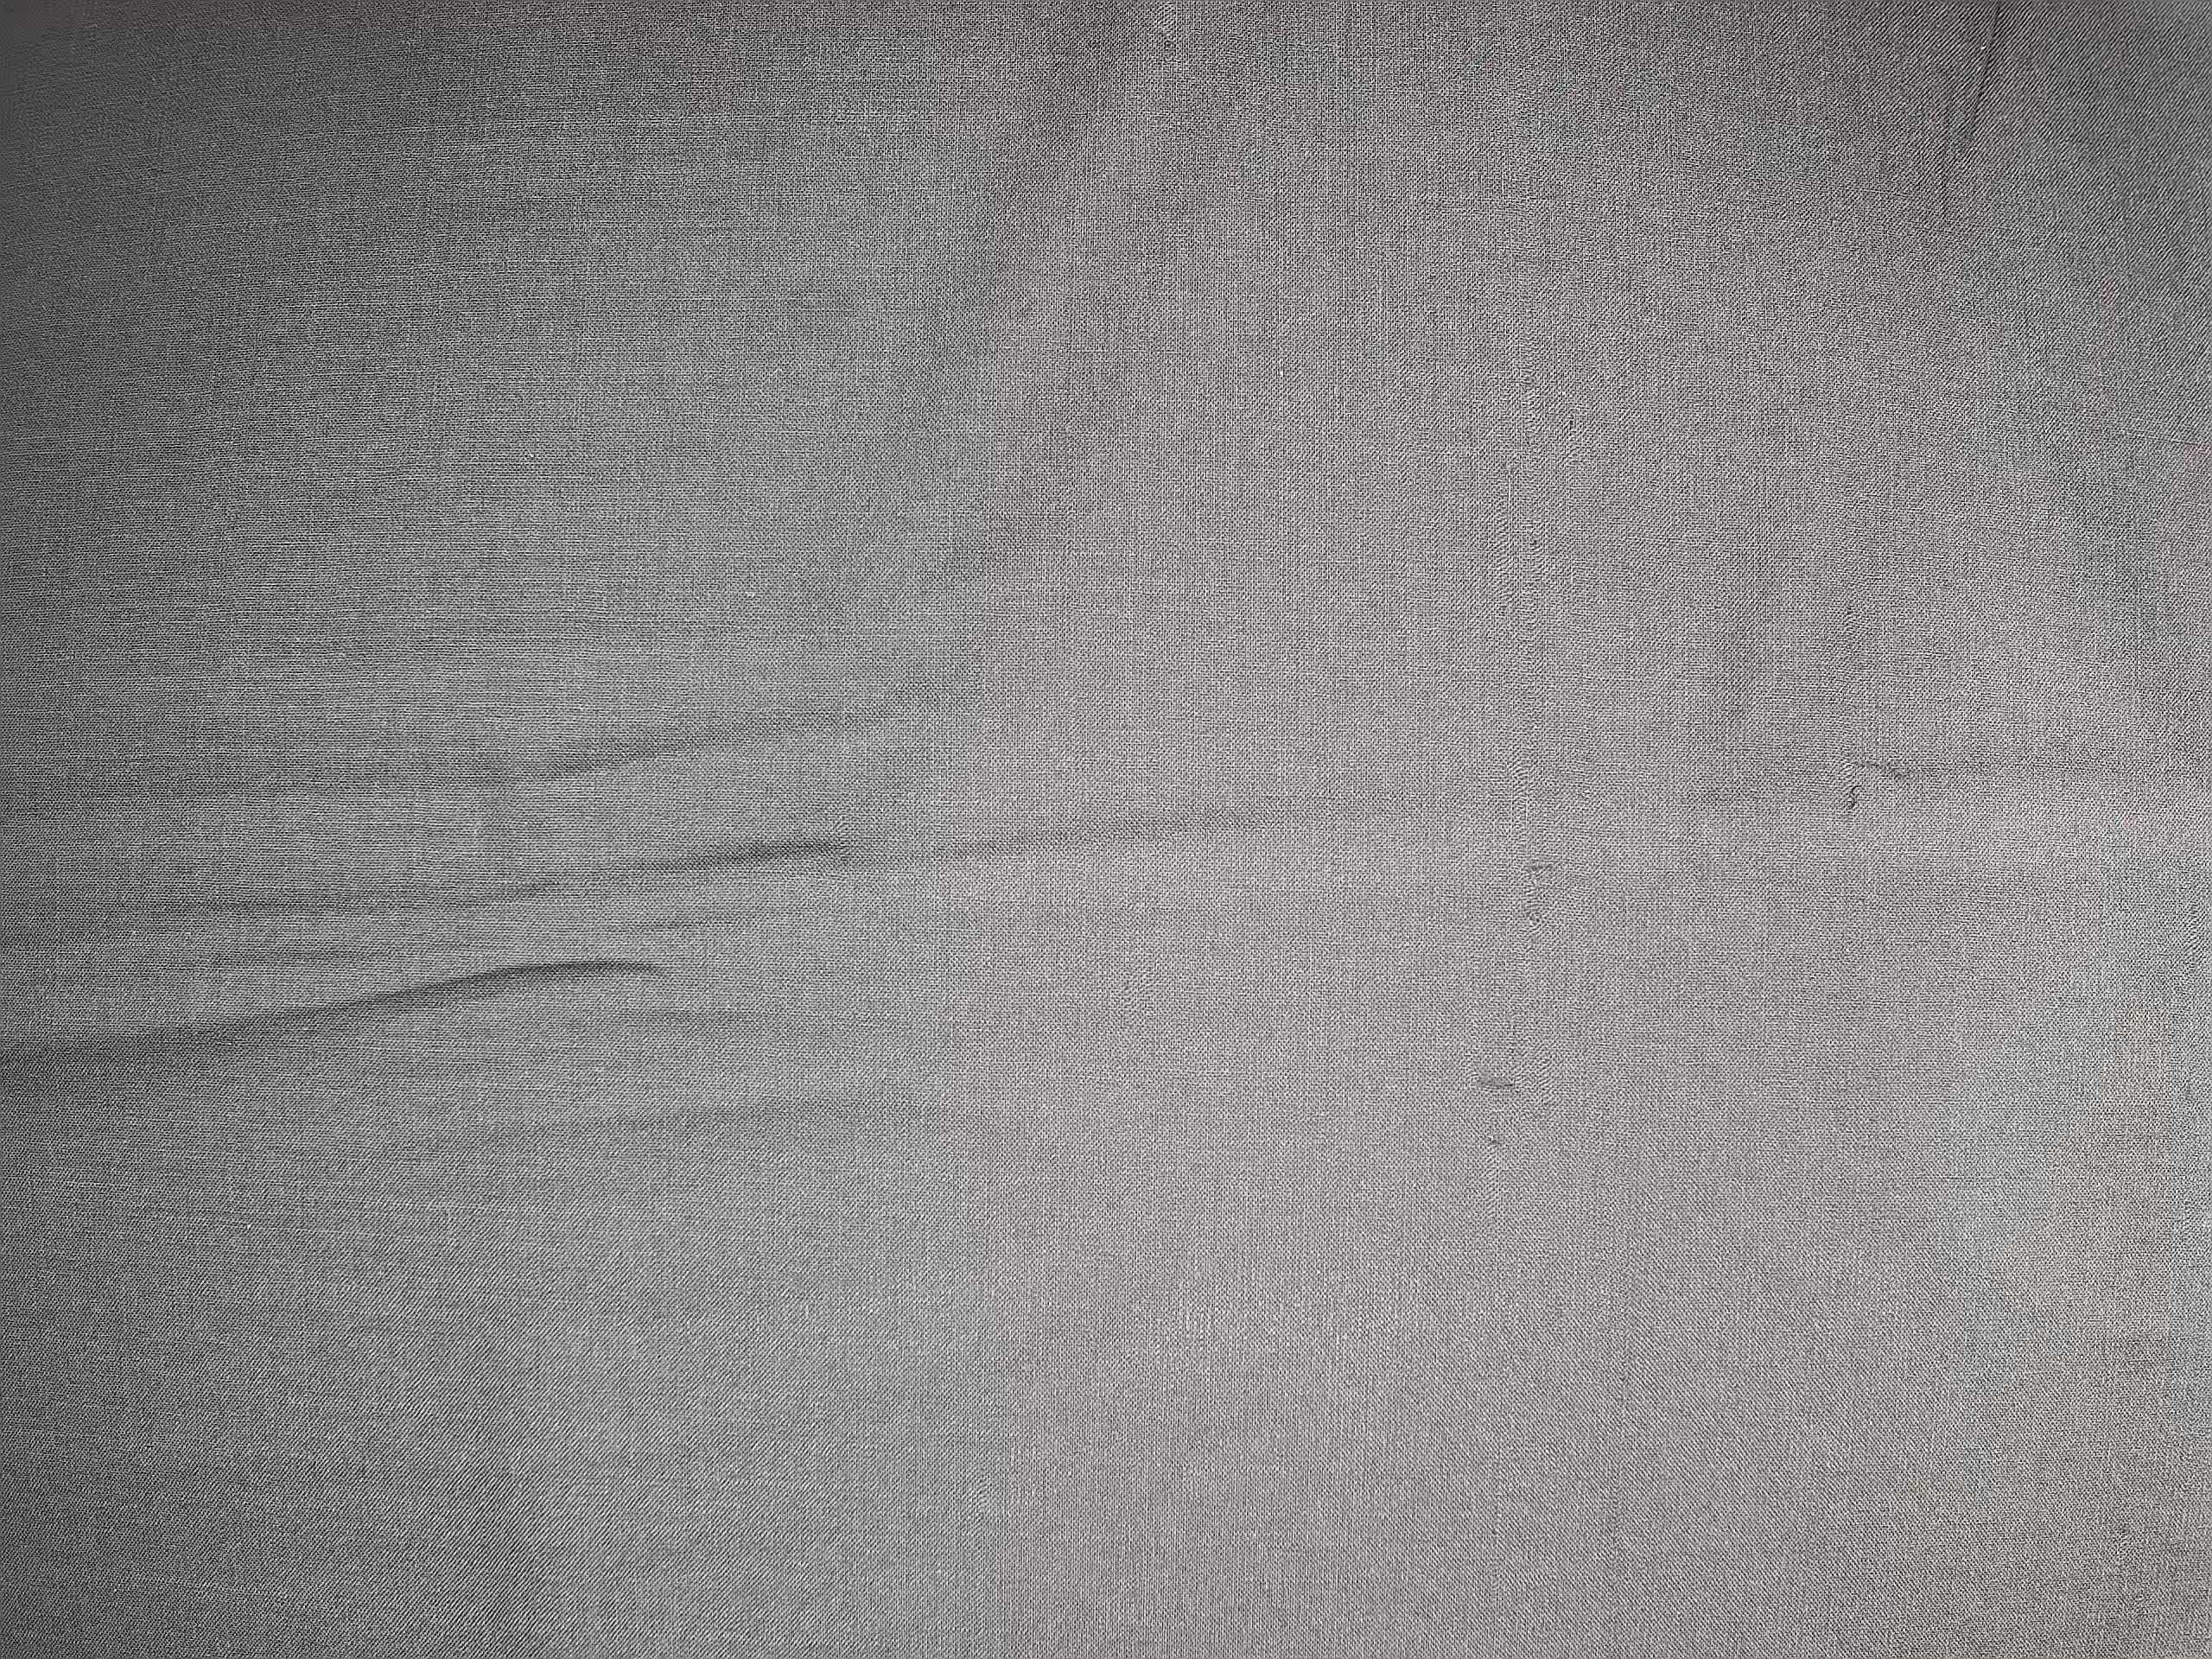hanging-warp: (1480, 272, 1583, 1176), (1831, 579, 1916, 847)
